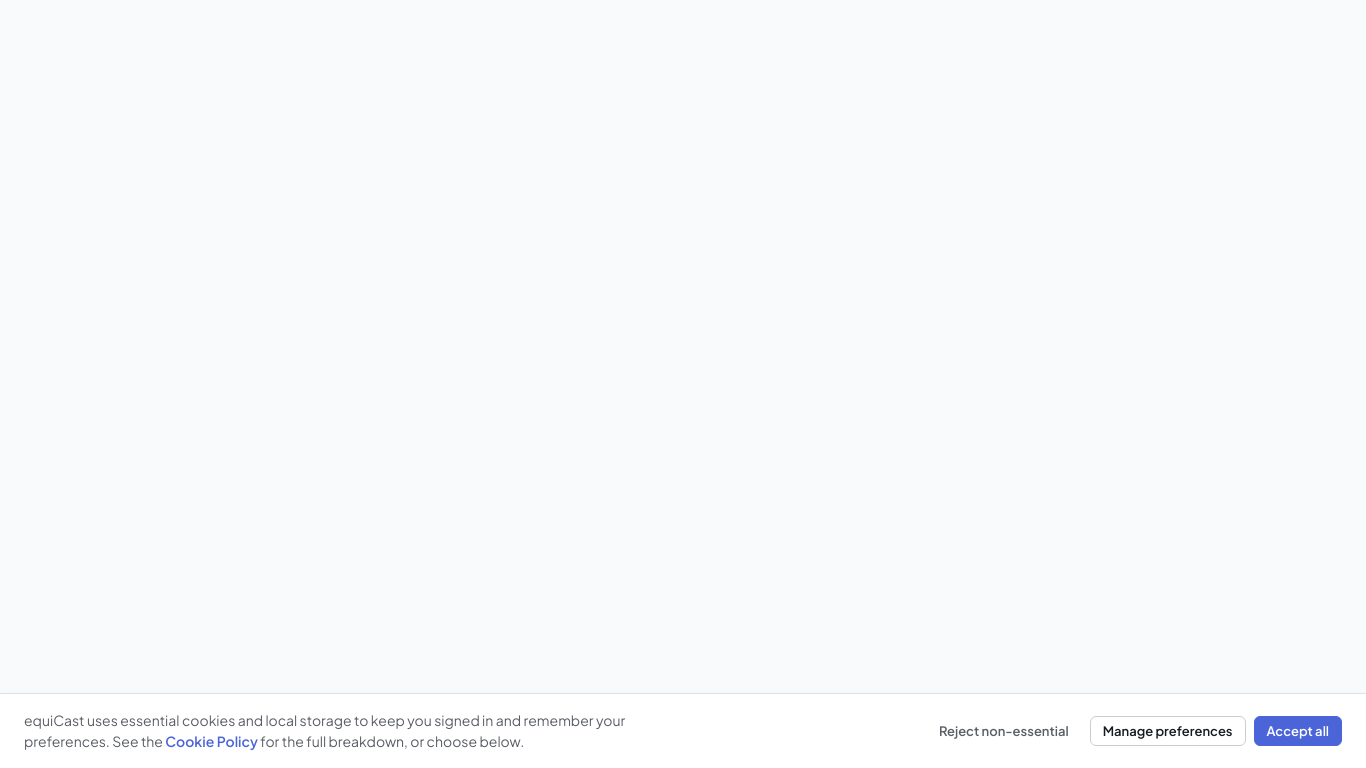
Test: CookieBanner › reopens the preferences panel via openCookiePreferences after a choice was already made
Click the button "Accept all" at [1298, 731], box x1=1254 y1=716 x2=1342 y2=746
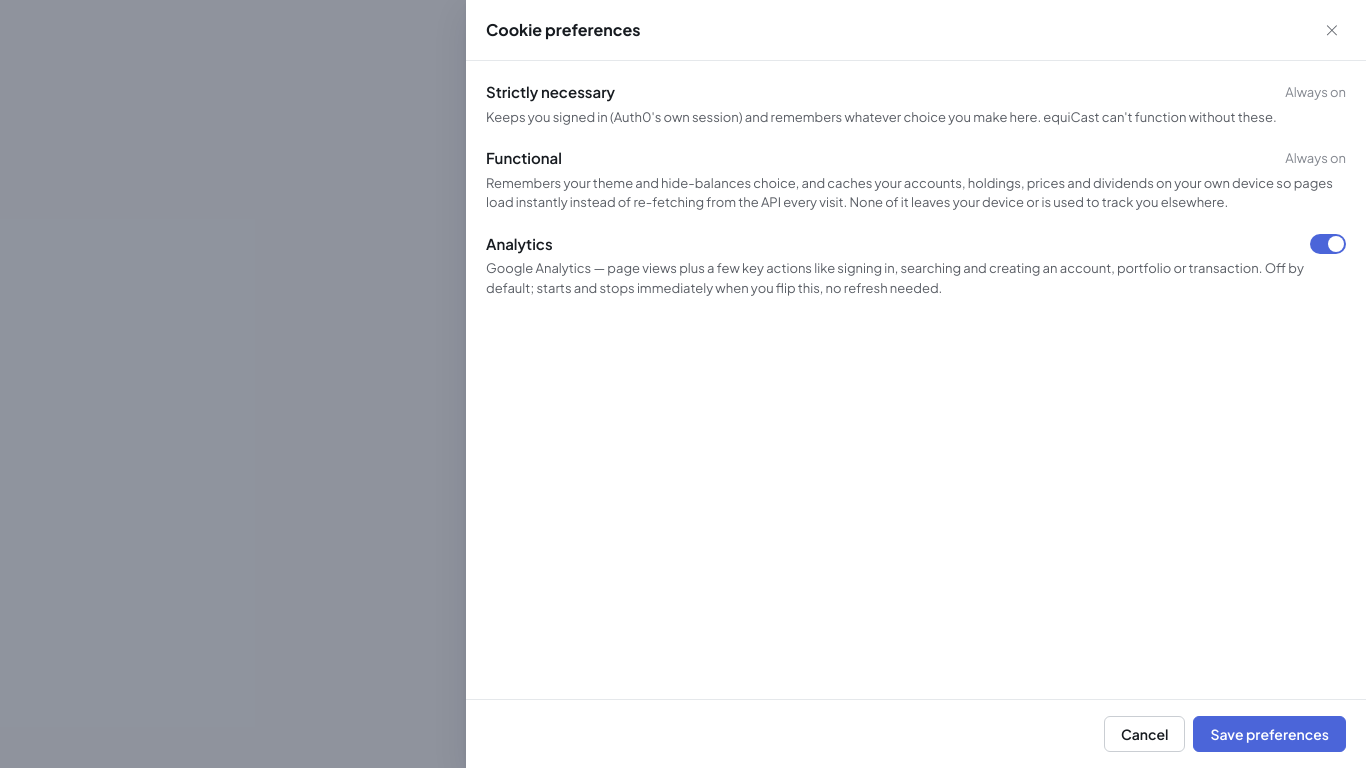
Expected: the dialog "Cookie preferences" is shown
Expected: the checkbox named "Analytics" is checked, x1=1310 y1=234 x2=1346 y2=254
